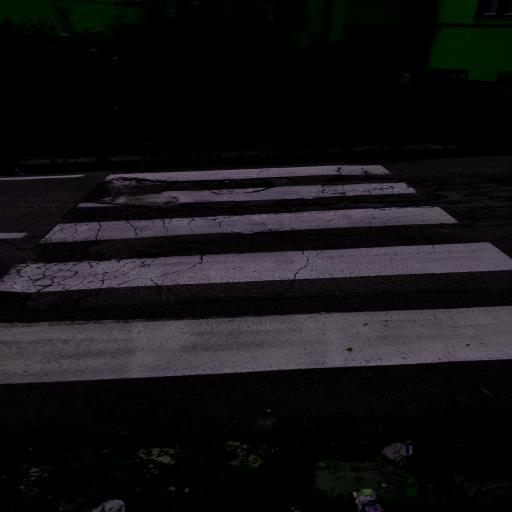crosswalk: (28, 178, 462, 250)
